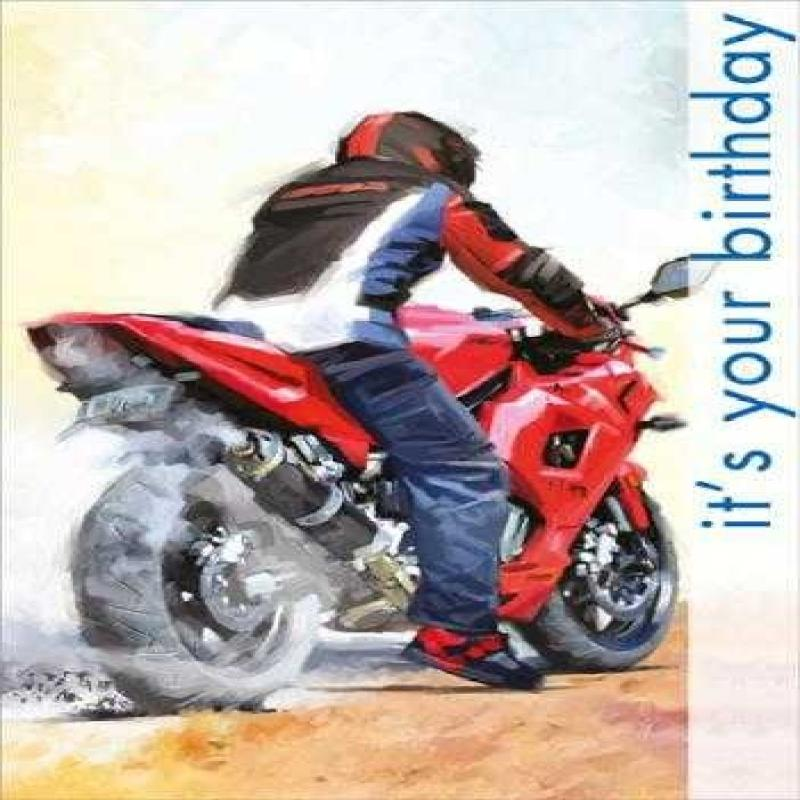bike: (46, 246, 761, 697)
